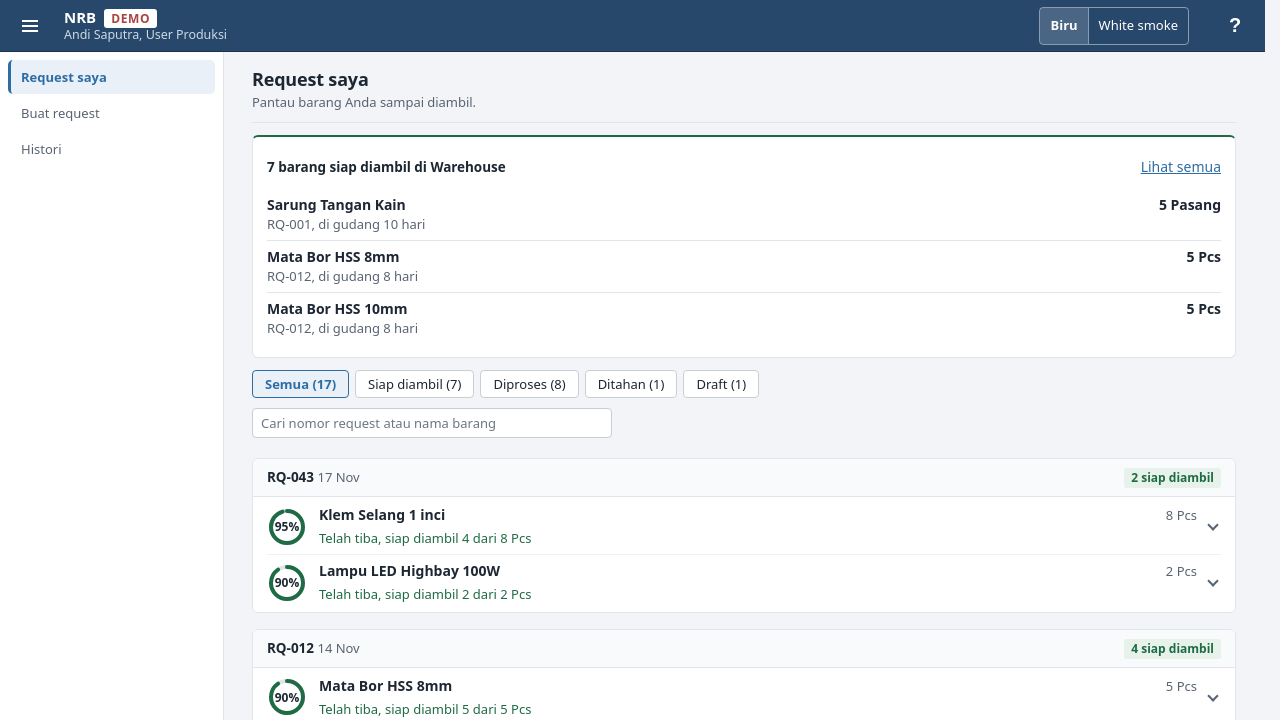
Test: hapus barang di draft butuh konfirmasi dua ketukan › ketukan pertama hanya meminta konfirmasi, kedua menghapus
The width and height of the screenshot is (1280, 720).
Expected: the button "Request saya" is shown, [8, 60, 215, 94]
What coordinates should you click on to do the following:
click the button "Buat request"
I would click on:
 (112, 113)
Its box is [8, 96, 215, 130].
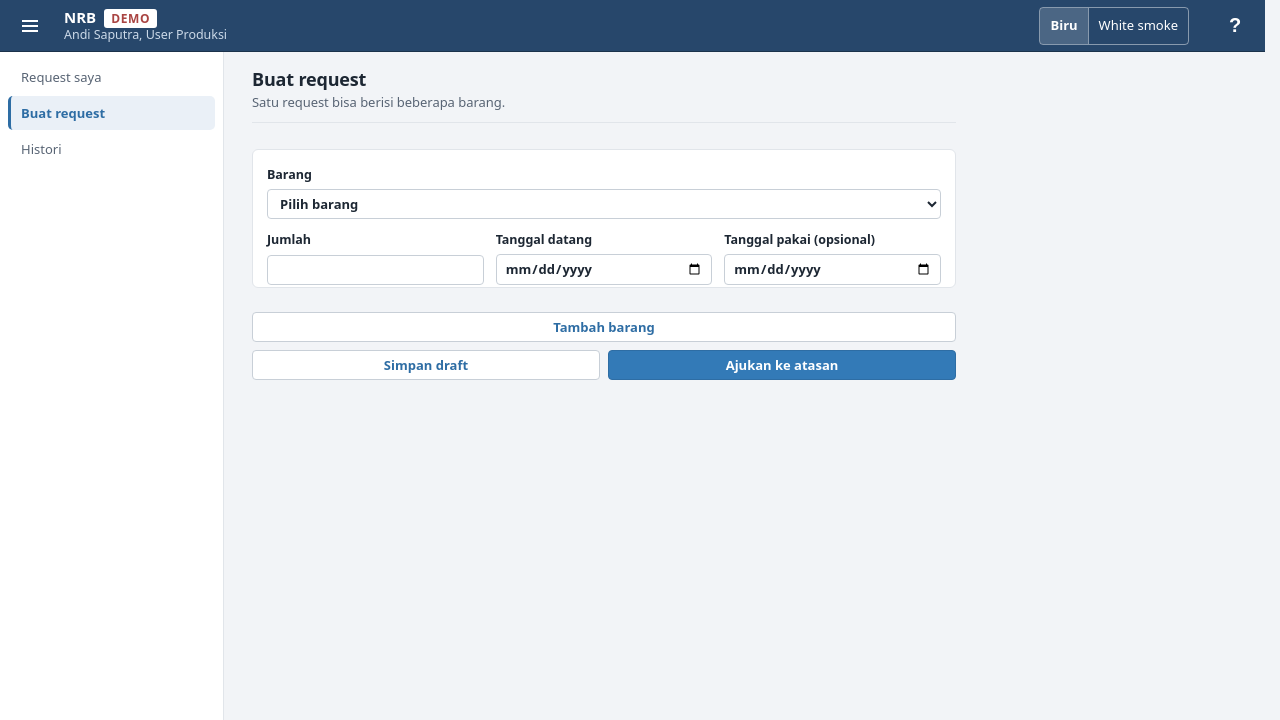
What coordinates should you click on to do the following:
click the button "Tambah barang"
I would click on:
 (604, 327)
Its box is [252, 312, 956, 342].
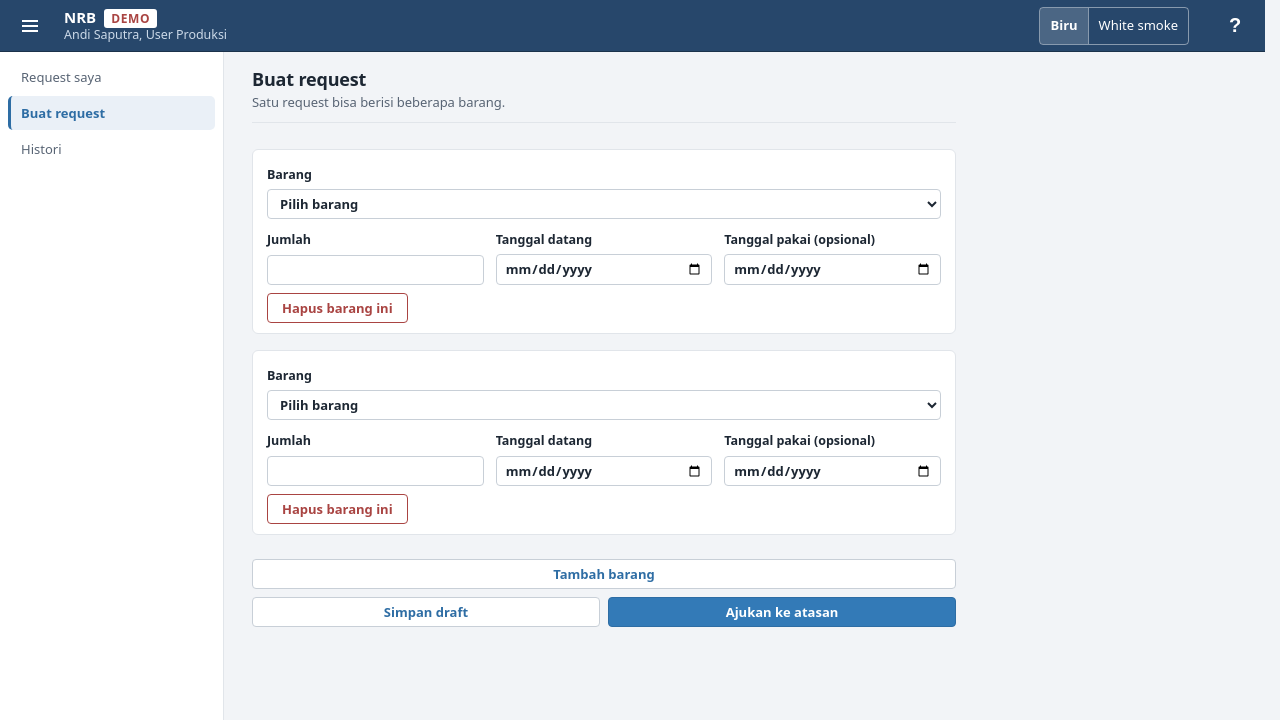
Expected: the number of buttons "Hapus barang ini" is 2
What coordinates should you click on to do the following:
click the 1st button "Hapus barang ini"
I would click on:
 (337, 308)
Its box is [267, 293, 408, 323].
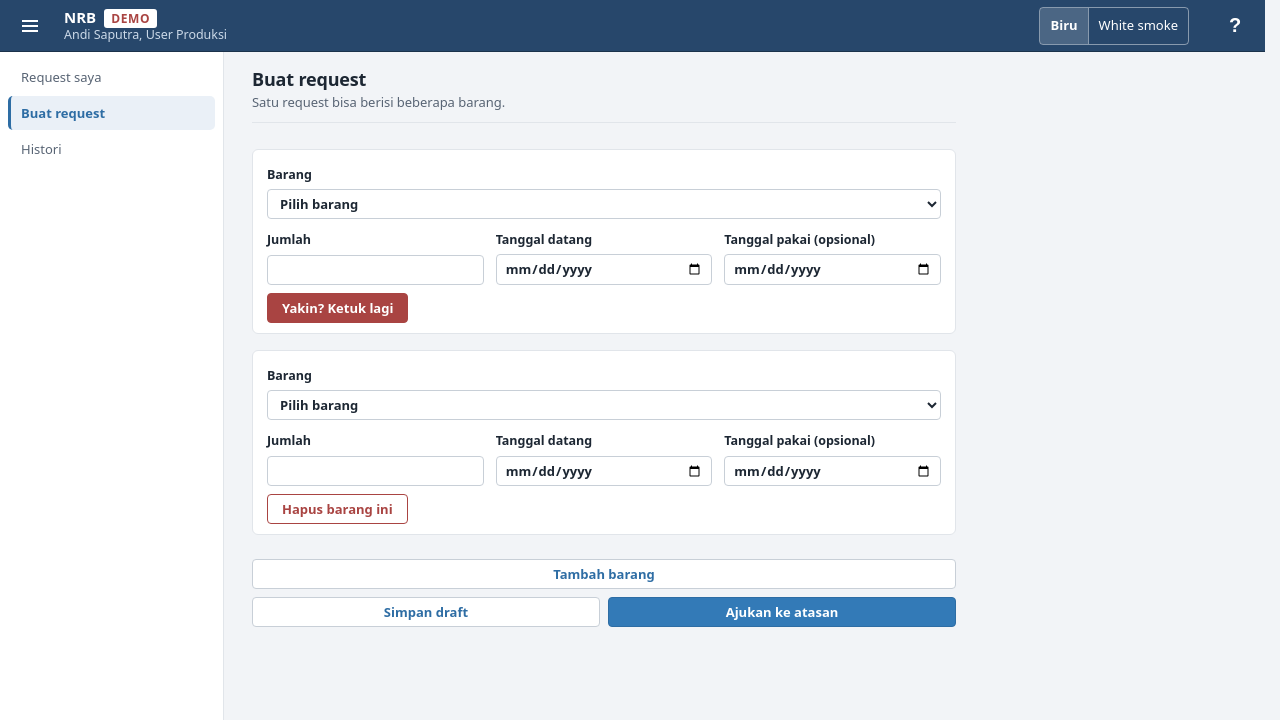
Expected: the number of buttons "Hapus barang ini" is 1, [267, 494, 408, 524]
Expected: the button "Yakin? Ketuk lagi" is shown
What coordinates should you click on to do the following:
click the button "Yakin? Ketuk lagi"
I would click on:
 (338, 308)
Its box is [267, 293, 408, 323].
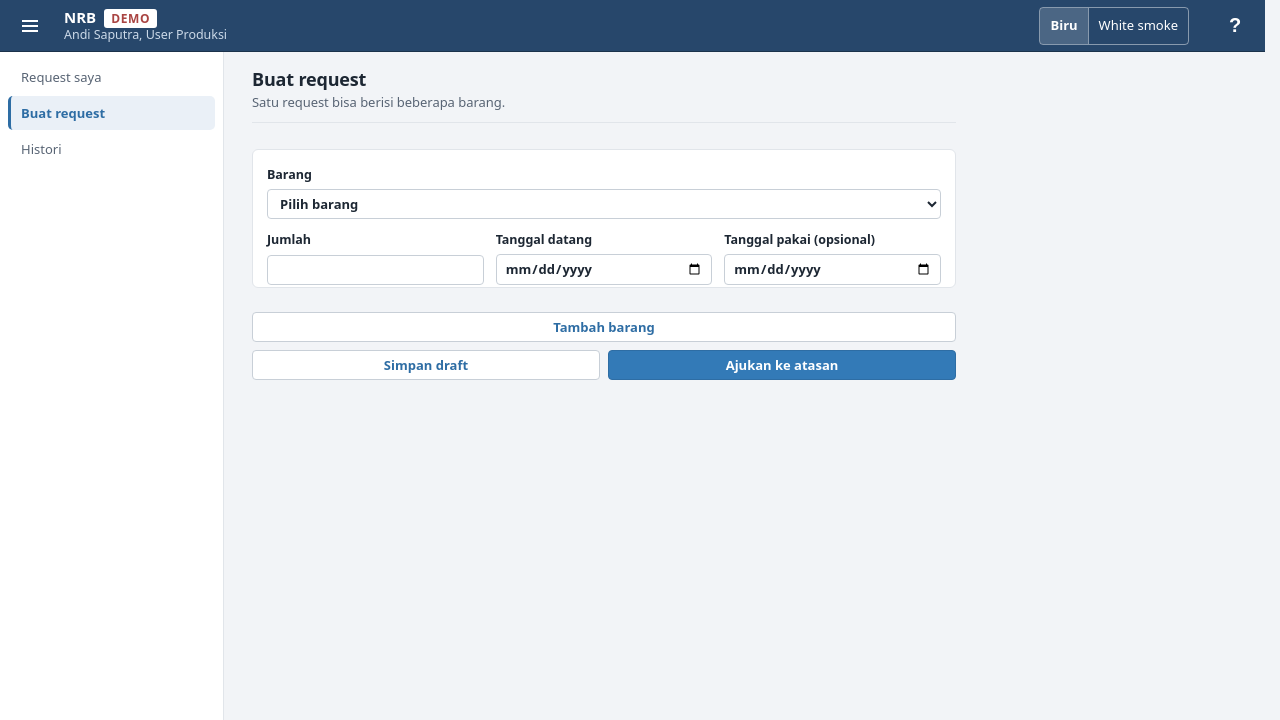
Expected: the button "Yakin? Ketuk lagi" is gone
